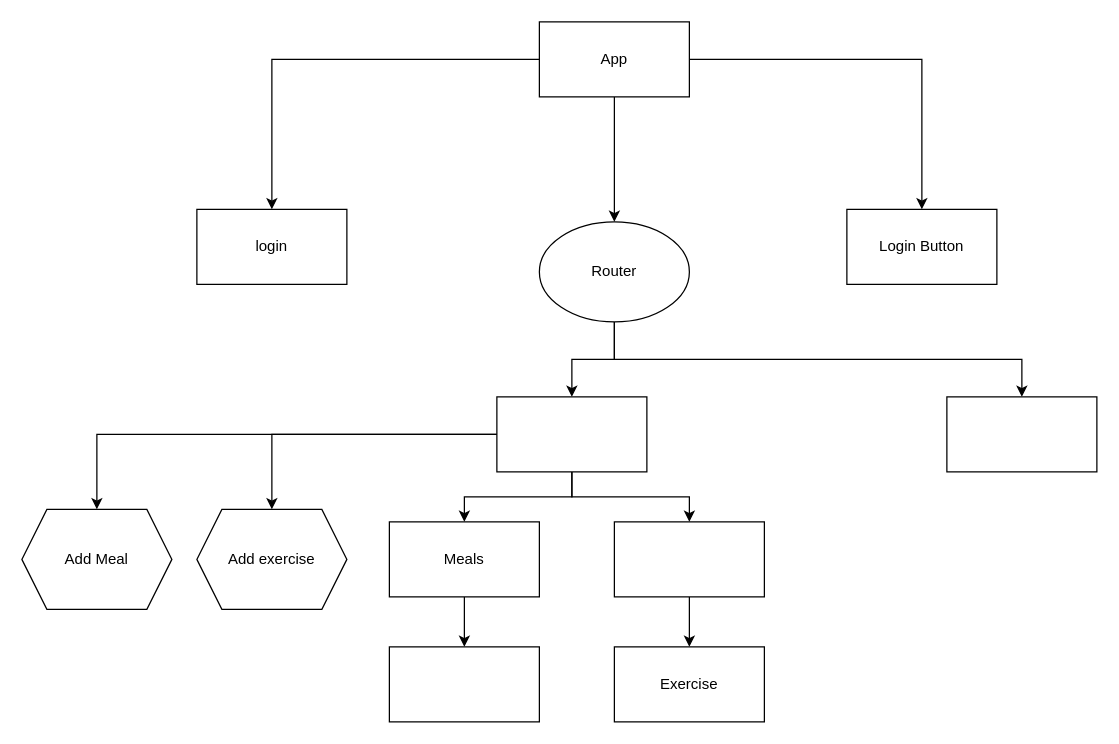
Some shapes in this 1119 by 744 pixel diagram are drawn without their labels. The centre of each missing label's shape, as x and y in pixels:
Daily Page: (571,434)
Exercises: (688,559)
Meal: (463,684)
Stat Page: (1021,434)
